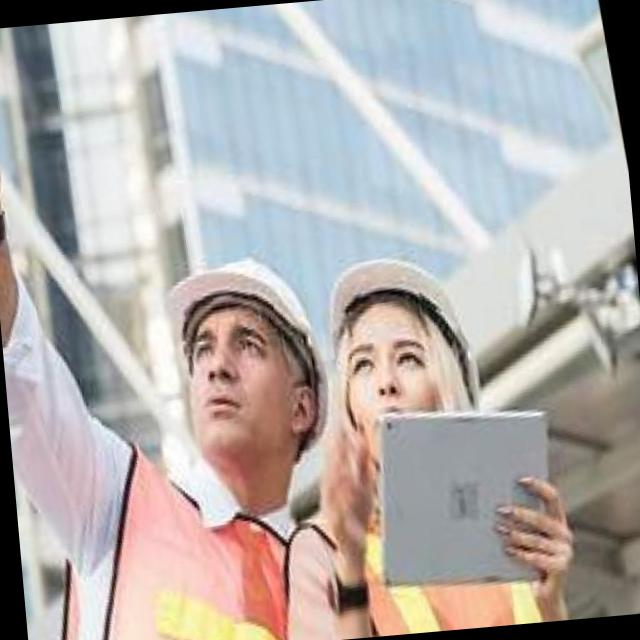not-gloved: (488, 452, 588, 612), (0, 27, 7, 240)
